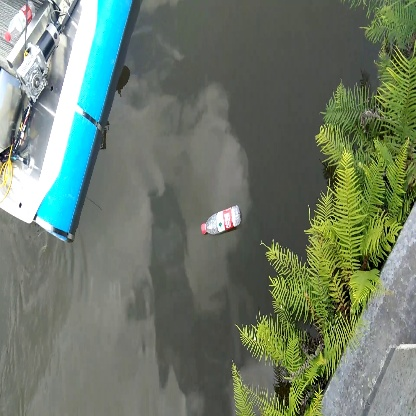bottle: (197, 203, 242, 239)
